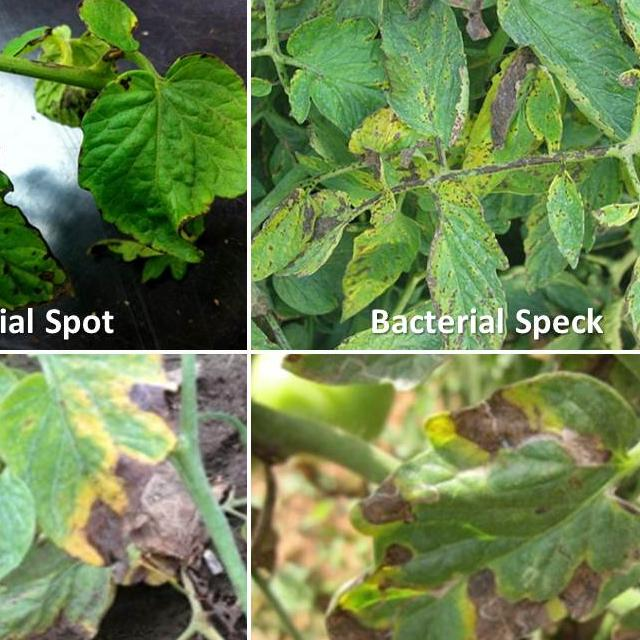Tomato Early blight leaf: (0, 365, 193, 640), (50, 61, 245, 292), (500, 0, 640, 187), (409, 157, 516, 345), (366, 0, 480, 163), (0, 63, 69, 331), (585, 189, 640, 342), (534, 150, 605, 267), (519, 57, 570, 148)
